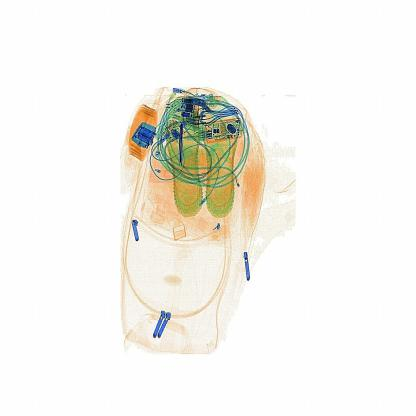knife: (172, 116, 193, 165)
